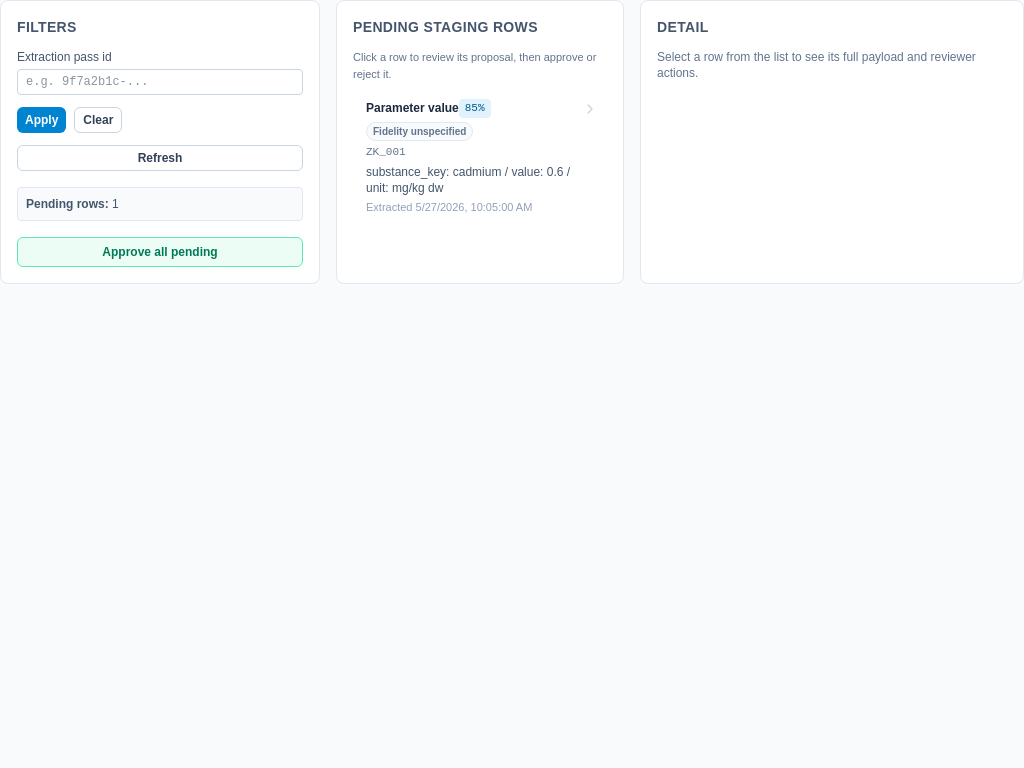
CatalogStagingReview › surfaces an error message when approve throws
Click the button with test id "staging-row-staging-A".
click(480, 157)  # box [353,90,607,223]
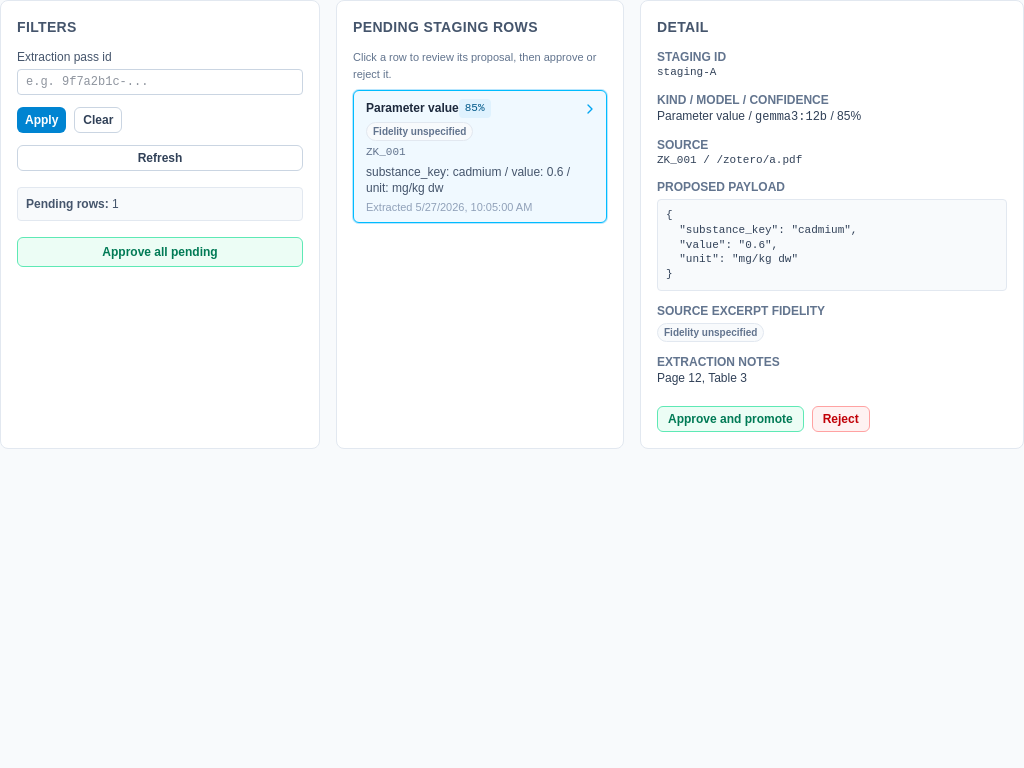
Click the button with test id "staging-action-approve".
click(730, 419)  # box [657,406,804,432]
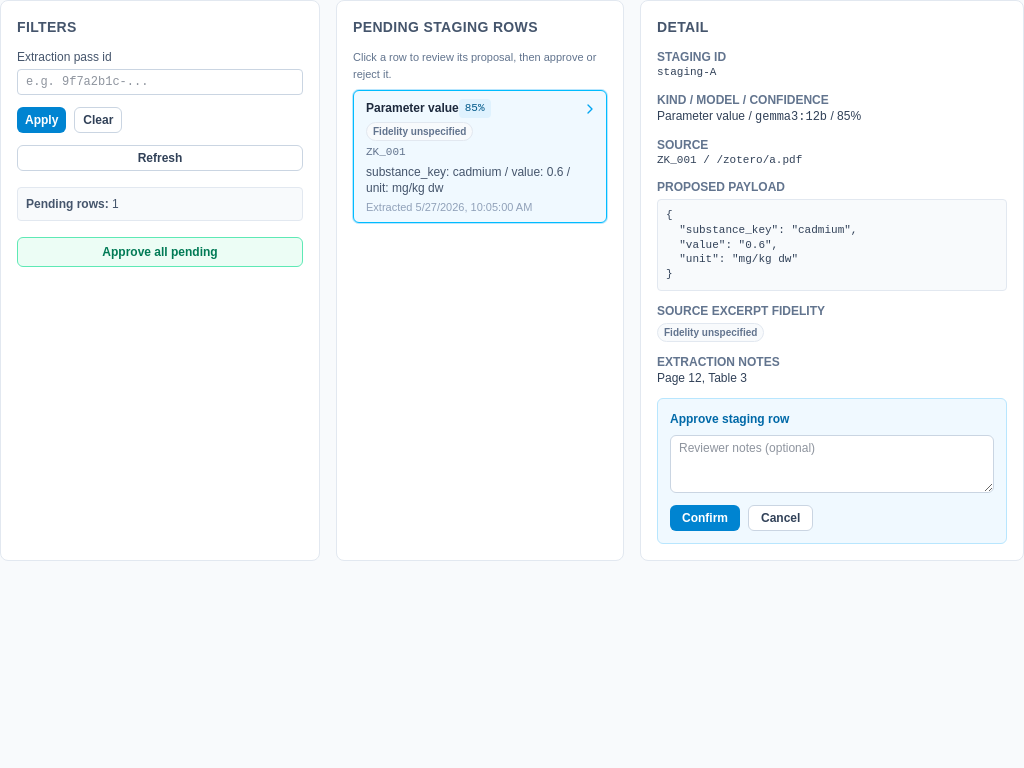
Click the button with test id "staging-action-submit".
click(705, 518)  # box [670,505,740,531]
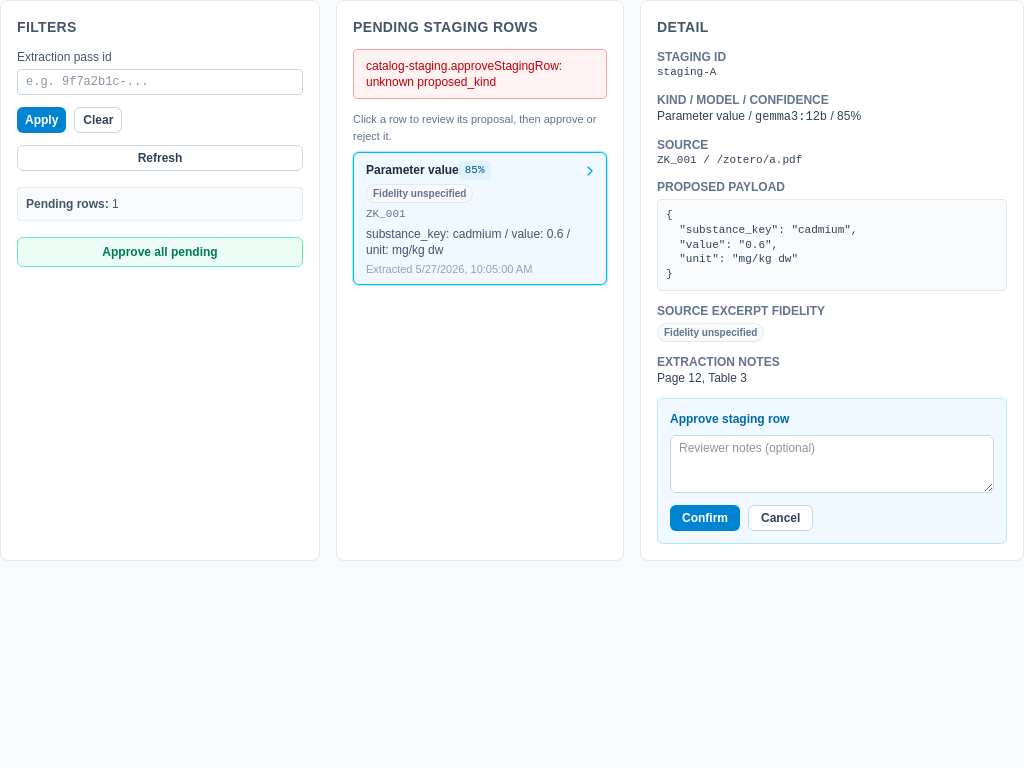
Expected: the message "catalog-staging.approveStagingRow: unknown proposed_kind" is shown, [353,49,607,99]
Expected: the message with test id "staging-action-error" shows "unknown proposed_kind", [366,59,562,89]
